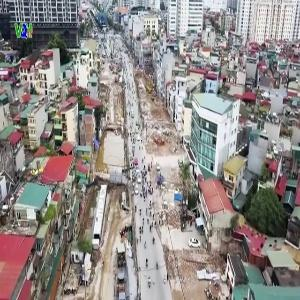drone: (66, 161, 120, 215)
